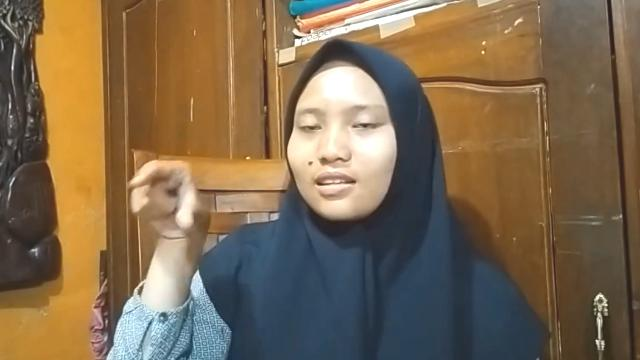Q: (124, 152, 212, 240)
